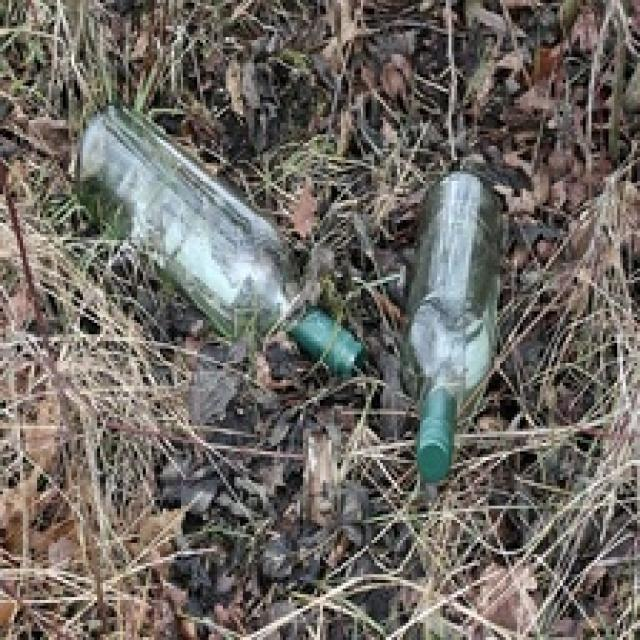glass-bottle: (48, 86, 377, 406), (389, 146, 517, 494)
